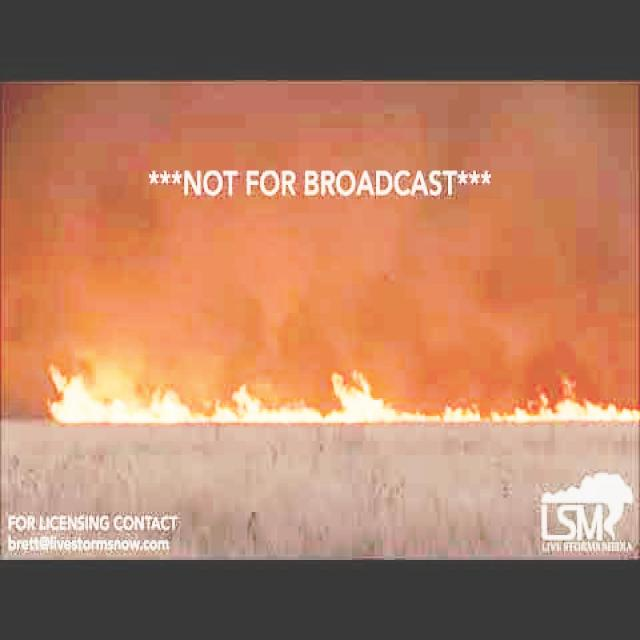api: (42, 357, 640, 428)
